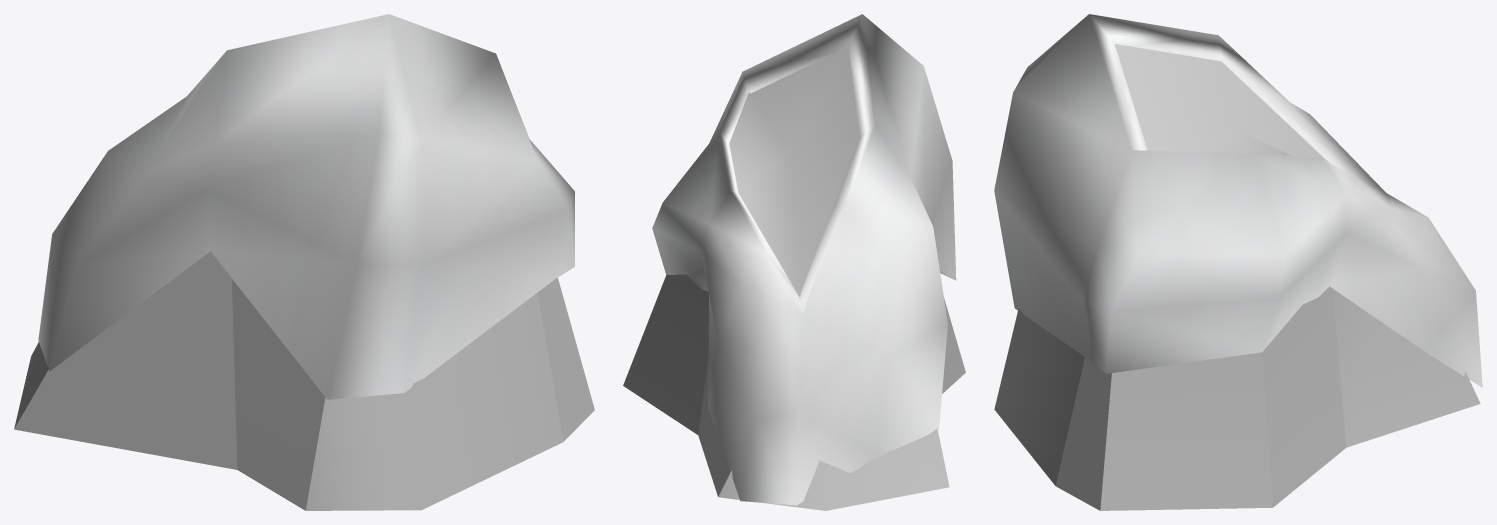
The model's file is SM_DeadTrunk_05.FBX.
The picture shows the model from 3 angles, left to right: view 1: azimuth 30°, elevation 25°; view 2: azimuth 150°, elevation 25°; view 3: azimuth 270°, elevation 25°; orthographic projection. The views are drawn at different scales.
Parts seen in each view (by area): view 1: SM_DeadTrunk_05; view 2: SM_DeadTrunk_05; view 3: SM_DeadTrunk_05.
Boxes of the visible parts, x1,y1,x2,y2 form: SM_DeadTrunk_05: (14,14,594,510); SM_DeadTrunk_05: (623,14,965,510); SM_DeadTrunk_05: (994,14,1482,510).
Size of the model in its own units: 166 by 158 by 173.
